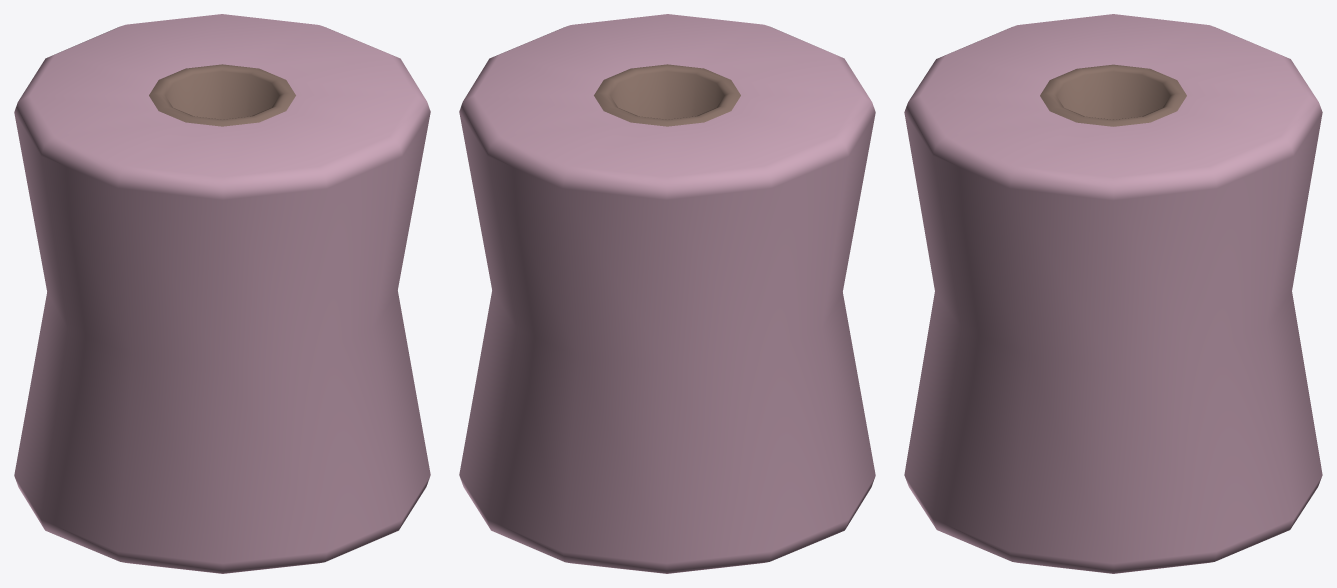
File: props_toiletPaper.fbx
The picture shows the model from 3 angles, left to right: view 1: azimuth 30°, elevation 25°; view 2: azimuth 150°, elevation 25°; view 3: azimuth 270°, elevation 25°; orthographic projection.
Parts seen in each view (by area): view 1: PQ; view 2: PQ; view 3: PQ.
Part boxes in pixels (left/top/right/bottom): PQ: left=14, top=14, right=430, bottom=573; PQ: left=459, top=14, right=875, bottom=573; PQ: left=904, top=14, right=1322, bottom=573.
Size of the model in its own units: 0.6053 by 0.6053 by 0.6402.
